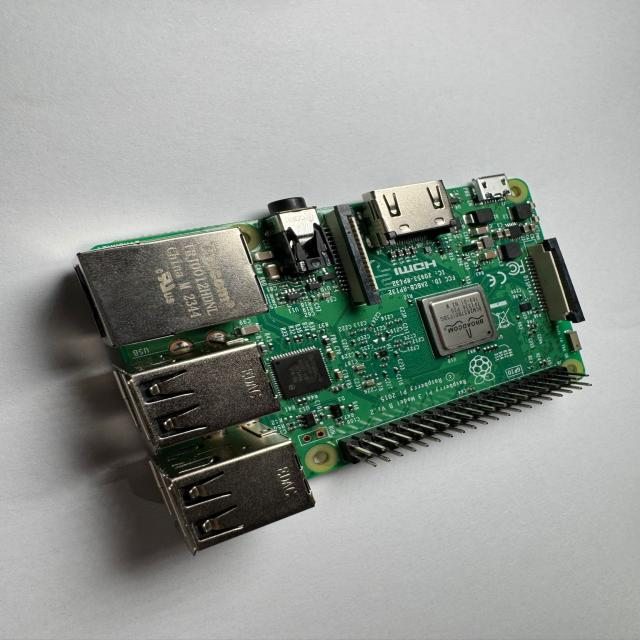CPU: (419, 285, 498, 360)
Ethernet: (75, 228, 268, 348)
GPIO: (340, 367, 591, 467)
HDMI: (371, 181, 456, 241)
RAM-3: (271, 348, 333, 402)
Raspberry: (75, 174, 587, 555)
